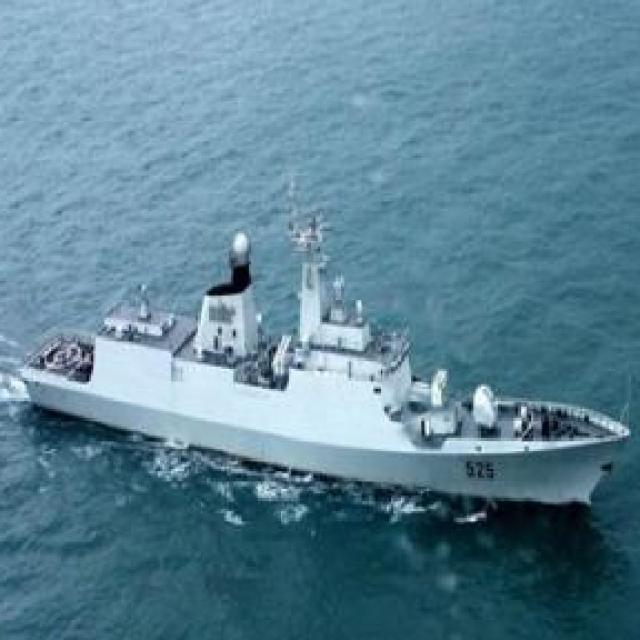navalvessels: (25, 202, 620, 508)
